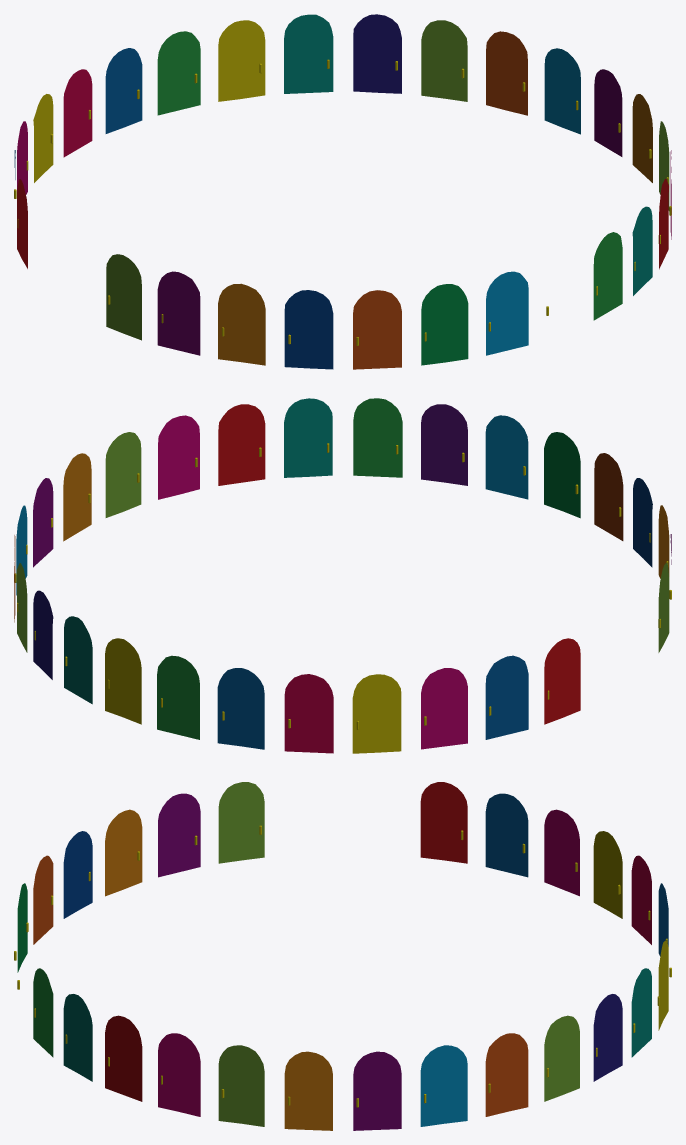
Rendered from Door_fix.fbx.
3 views of the same model, one above another, from view 1: azimuth 30°, elevation 25°; view 2: azimuth 150°, elevation 25°; view 3: azimuth 270°, elevation 25° (orthographic).
Visible parts, largest first — view 1: Door; view 2: Door; view 3: Door.
Part boxes in pixels (box(x1,y1,x2,y2)): Door: box(14, 14, 671, 369); Door: box(14, 398, 671, 753); Door: box(14, 782, 671, 1130).
Bounding box in the file's own units: 5927 × 791 × 6022.
